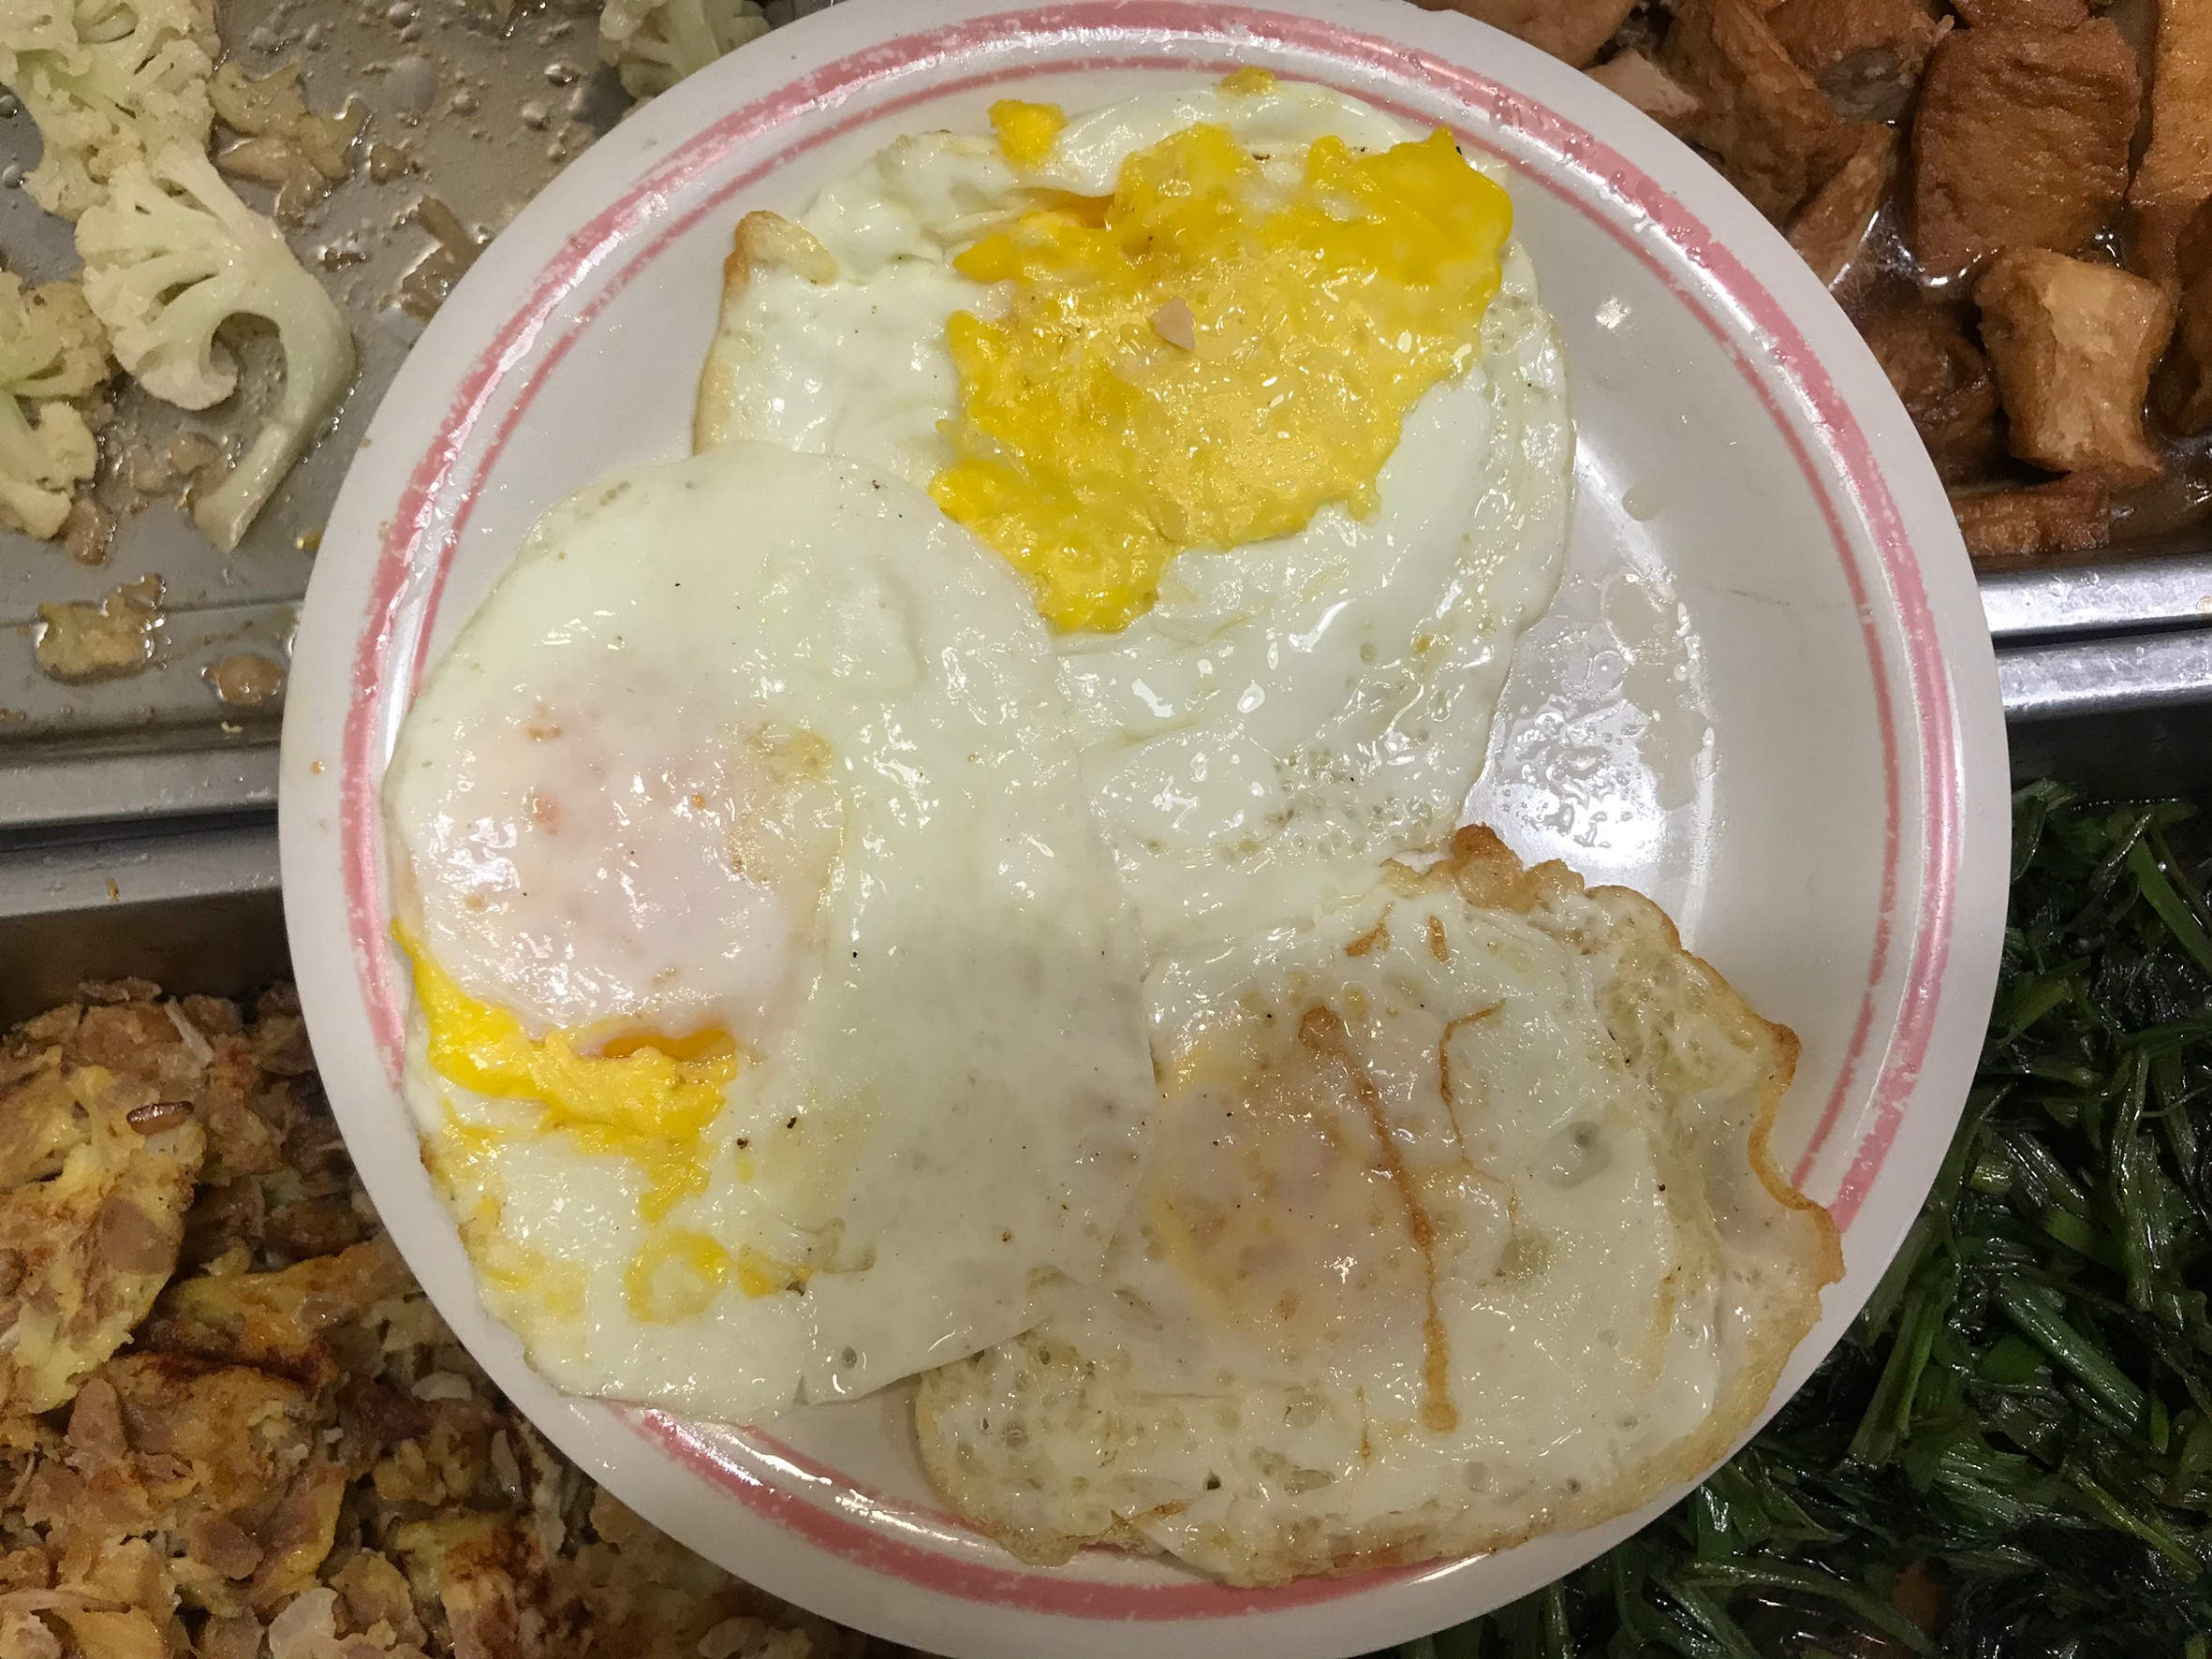fried_eggs: (399, 118, 1829, 1525)
water_spinach: (1839, 1187, 2212, 1659)
